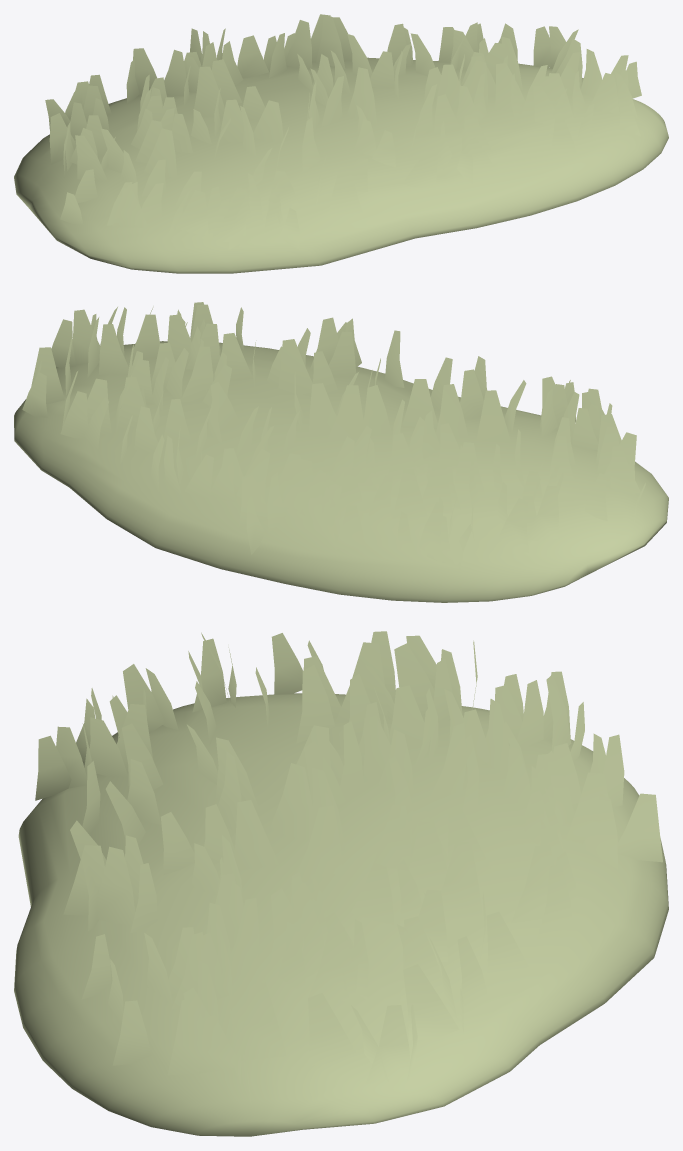
File: SM_MossPatch.fbx
The picture shows the model from 3 angles, top to bottom: view 1: azimuth 30°, elevation 25°; view 2: azimuth 150°, elevation 25°; view 3: azimuth 270°, elevation 25°; orthographic projection. The views are drawn at different scales.
Parts seen in each view (by area): view 1: Sphere.001; view 2: Sphere.001; view 3: Sphere.001.
Boxes of the visible parts, left/top/right/bottom form: Sphere.001: left=14, top=14, right=668, bottom=273; Sphere.001: left=14, top=302, right=668, bottom=602; Sphere.001: left=14, top=631, right=668, bottom=1136.
Size of the model in its own units: 423 by 62.79 by 272.
